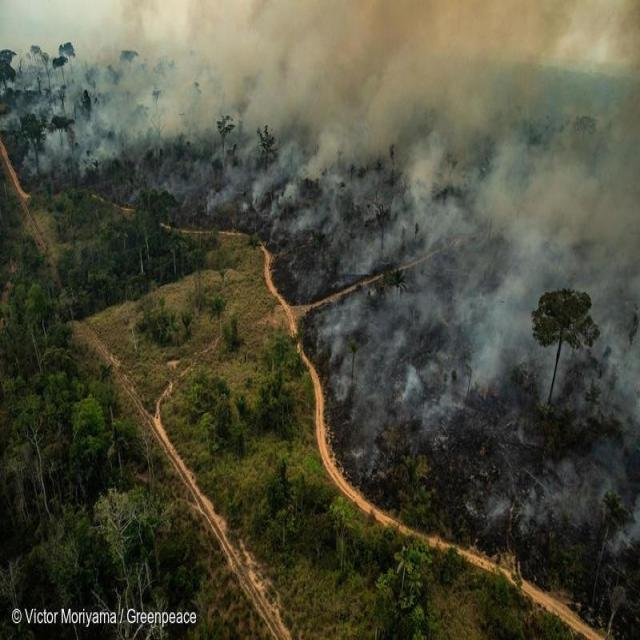Smoke: (1, 1, 640, 560)
